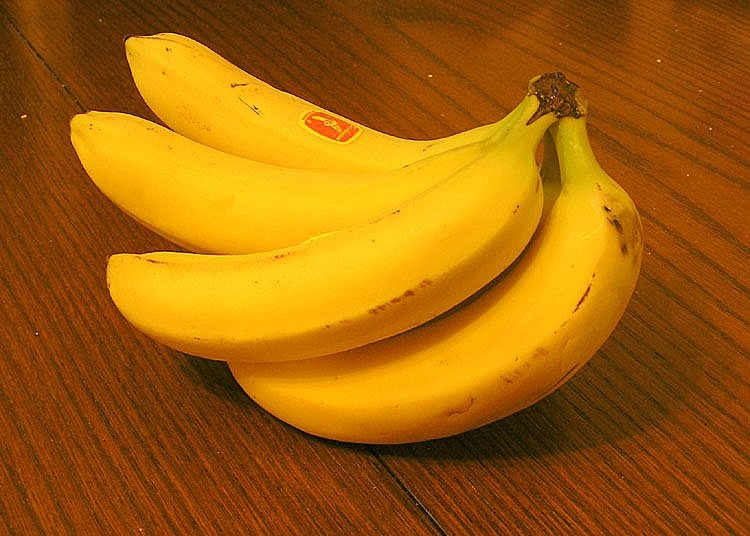looks_good: (43, 10, 678, 483)
